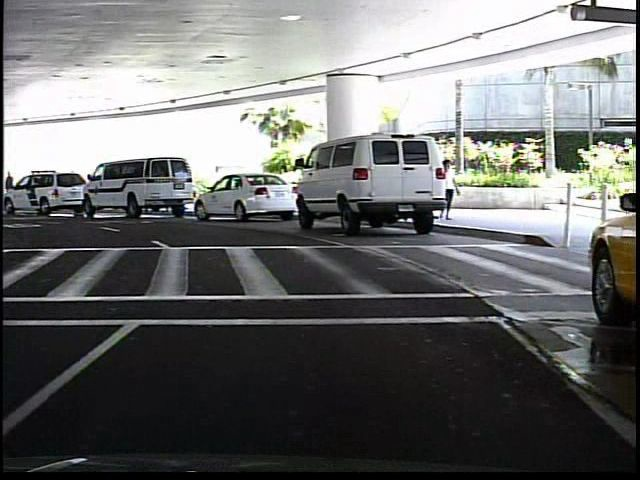person: (441, 151, 462, 226), (4, 169, 19, 204)
